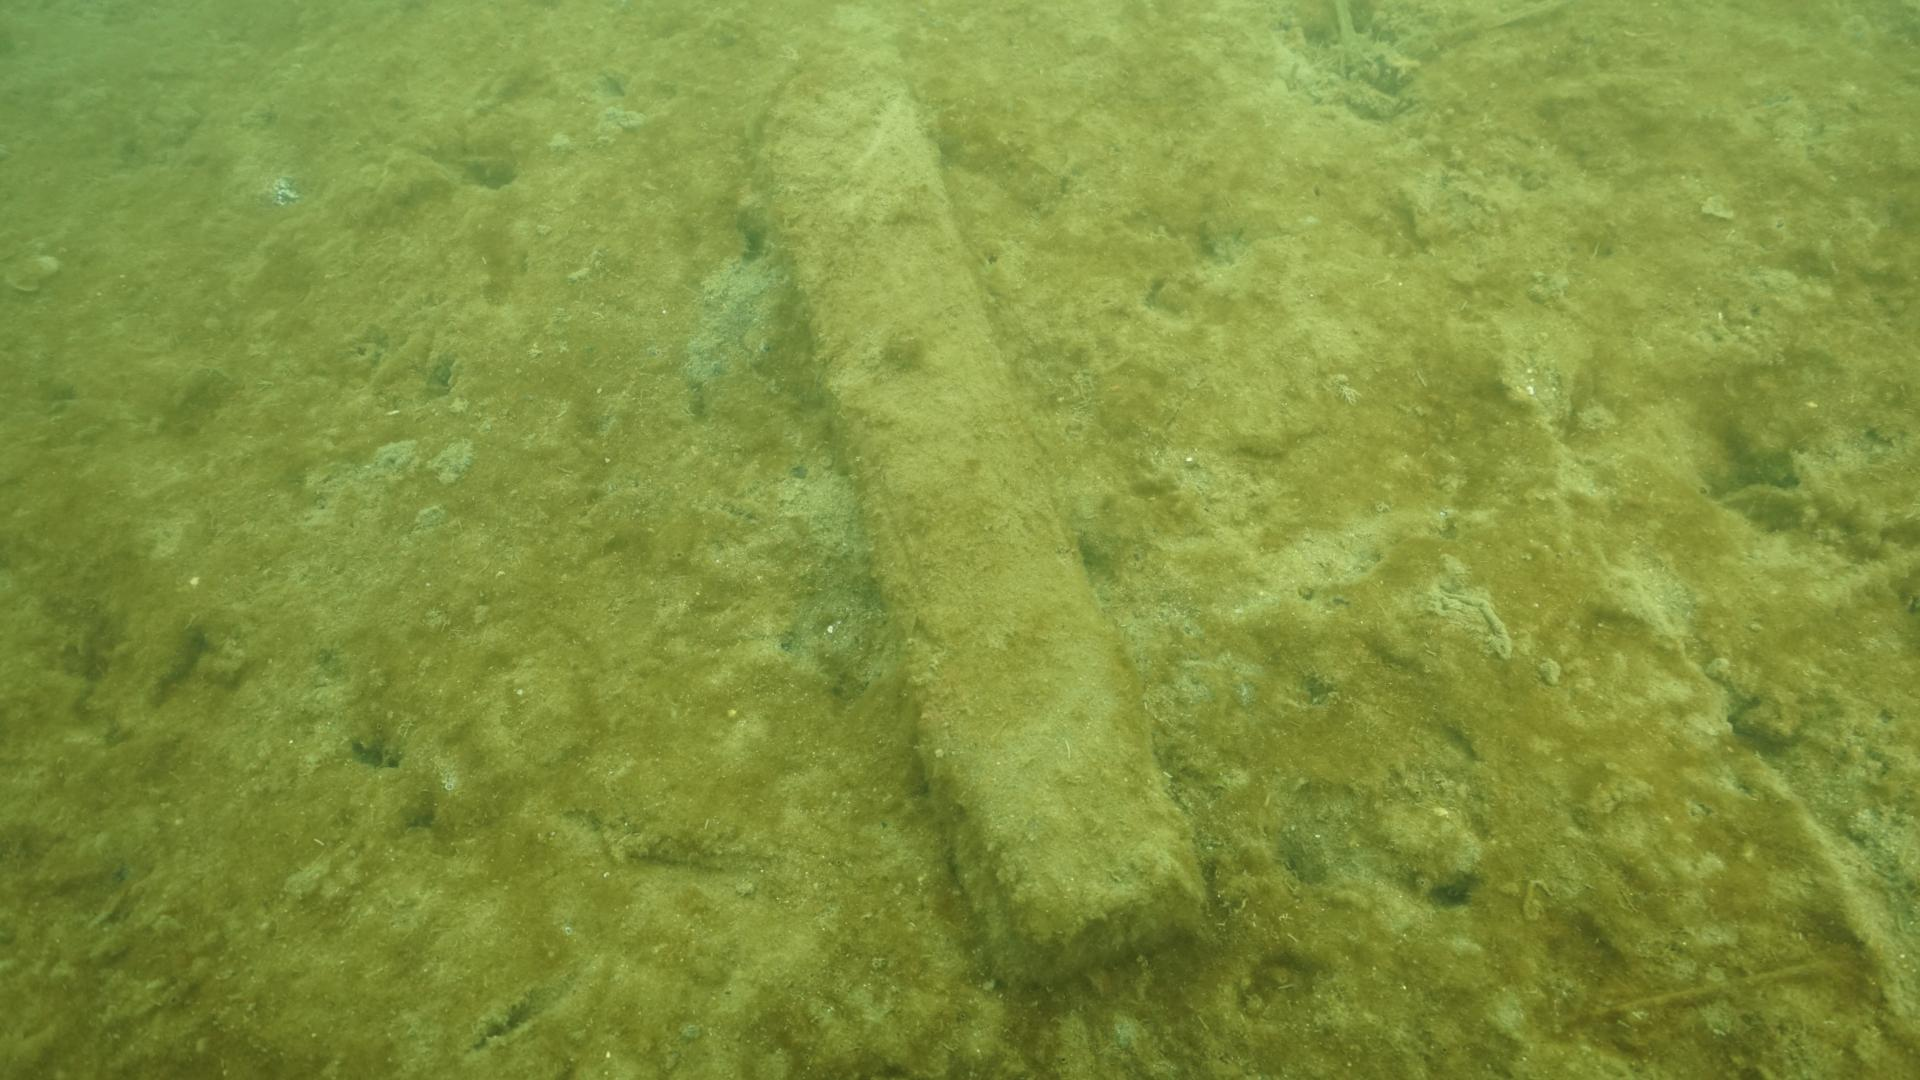wood: (728, 32, 1233, 1000)
